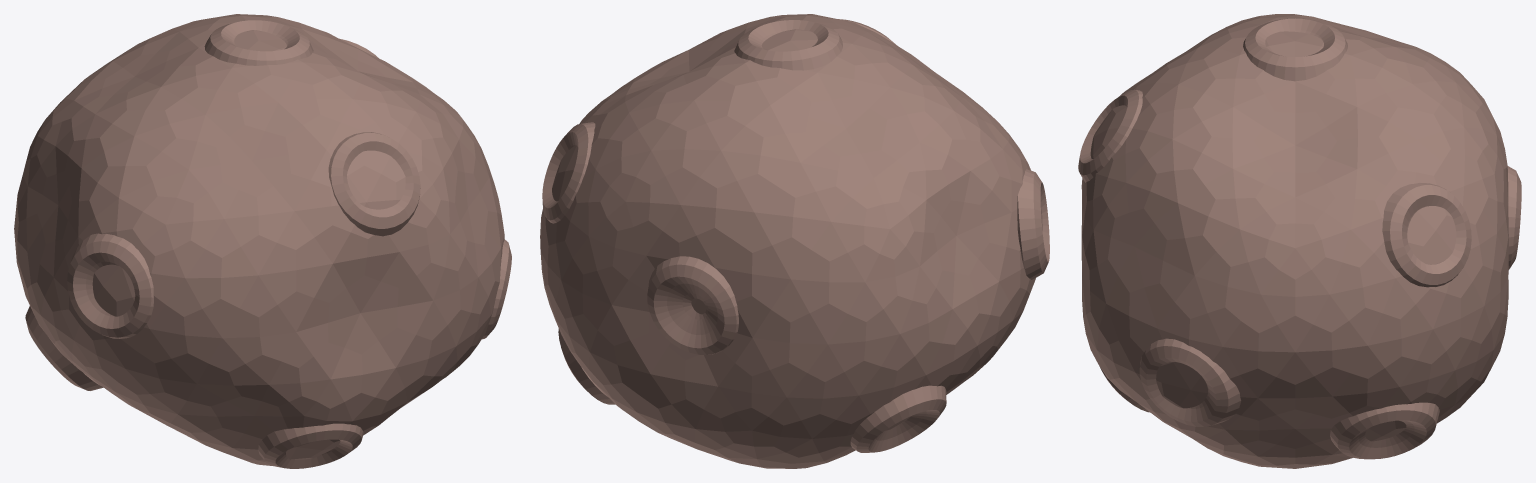
The model's file is Asteroid_MOD.fbx.
The picture shows the model from 3 angles, left to right: view 1: azimuth 30°, elevation 25°; view 2: azimuth 150°, elevation 25°; view 3: azimuth 270°, elevation 25°; orthographic projection.
Parts seen in each view (by area): view 1: Icosphere, Cylinder.003, Cylinder.007, Cylinder, Cylinder.002, Cylinder.006, Cylinder.004; view 2: Icosphere, Cylinder.005, Cylinder.006, Cylinder, Cylinder.003, Cylinder.001, Cylinder.008; view 3: Icosphere, Cylinder.001, Cylinder.004, Cylinder.008, Cylinder, Cylinder.007, Cylinder.005.
Boxes of the visible parts, x1=… form: Icosphere: x1=14, y1=14, x2=504, y2=466; Cylinder.003: x1=67, y1=233, x2=153, y2=338; Cylinder.007: x1=328, y1=132, x2=420, y2=236; Cylinder: x1=204, y1=20, x2=313, y2=65; Cylinder.002: x1=258, y1=423, x2=363, y2=468; Cylinder.006: x1=25, y1=306, x2=103, y2=390; Cylinder.004: x1=482, y1=239, x2=511, y2=339; Icosphere: x1=540, y1=14, x2=1042, y2=468; Cylinder.005: x1=647, y1=256, x2=738, y2=354; Cylinder.006: x1=850, y1=385, x2=946, y2=452; Cylinder: x1=734, y1=20, x2=842, y2=70; Cylinder.003: x1=1017, y1=169, x2=1049, y2=279; Cylinder.001: x1=542, y1=122, x2=595, y2=223; Cylinder.008: x1=558, y1=329, x2=615, y2=404; Icosphere: x1=1081, y1=14, x2=1508, y2=468; Cylinder.001: x1=1382, y1=183, x2=1471, y2=287; Cylinder.004: x1=1139, y1=338, x2=1241, y2=426; Cylinder.008: x1=1330, y1=402, x2=1439, y2=459; Cylinder: x1=1243, y1=18, x2=1347, y2=81; Cylinder.007: x1=1078, y1=89, x2=1142, y2=182; Cylinder.005: x1=1507, y1=166, x2=1521, y2=269.
Bounding box in the file's own units: 270 × 246 × 239.
